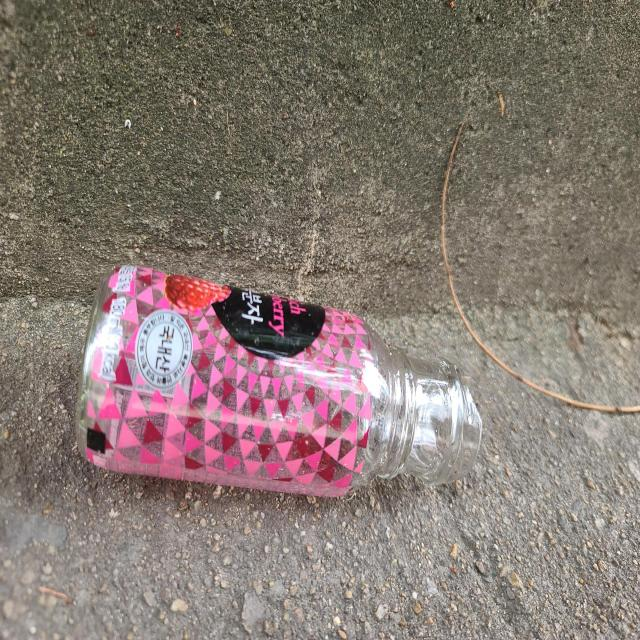glass: (75, 267, 482, 497)
